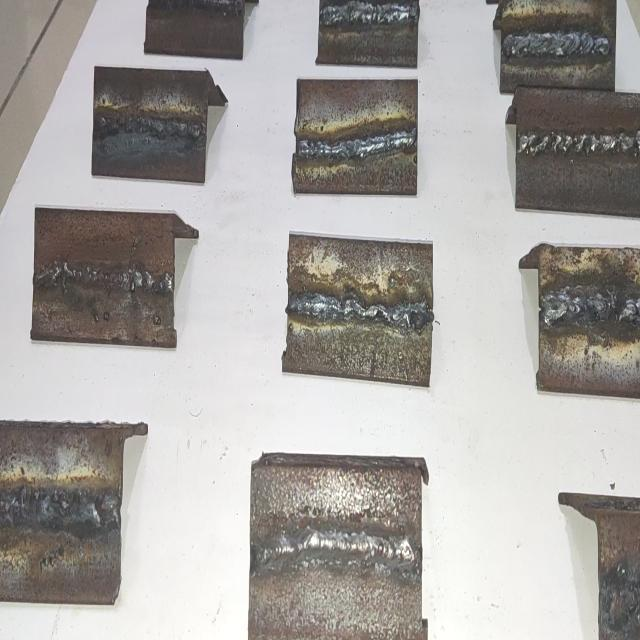Defect: (34, 268, 175, 292), (568, 287, 633, 328), (604, 568, 640, 635), (95, 110, 163, 142)
Welding Line: (254, 533, 418, 570), (0, 492, 118, 532), (36, 262, 173, 296), (290, 295, 429, 326), (298, 130, 417, 160), (96, 112, 202, 142), (544, 293, 640, 324), (518, 131, 640, 153), (503, 34, 613, 58), (321, 0, 418, 26)
Workpiece: (248, 463, 426, 640), (285, 231, 435, 392), (0, 426, 124, 602), (29, 204, 177, 346), (512, 91, 640, 213), (534, 247, 640, 394), (294, 76, 418, 196), (91, 64, 208, 188), (498, 0, 618, 95), (317, 0, 420, 67)
